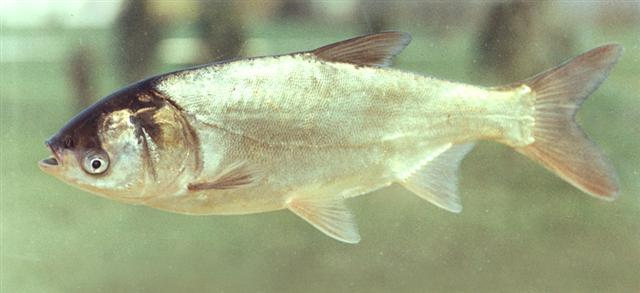Mulut: (32, 130, 70, 178)
Sirip Anal: (398, 129, 480, 218)
Sirip Dada: (182, 156, 266, 198)
Sirip Ekor: (515, 38, 629, 204)
Sirip Perut: (284, 182, 376, 252)
Sirip Punggung: (310, 20, 416, 76)
